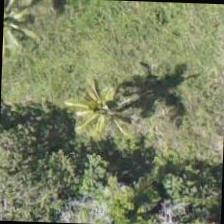Kelapa_Sawit: (94, 66, 186, 158), (1, 0, 59, 76)
